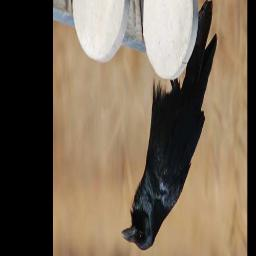Crow: (121, 0, 218, 251)
